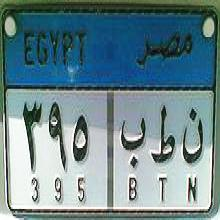3: (20, 94, 44, 174)
5: (70, 112, 91, 167)
9: (46, 98, 68, 172)
Taa: (150, 104, 177, 168)
baa: (119, 106, 146, 169)
noon: (180, 104, 206, 166)
